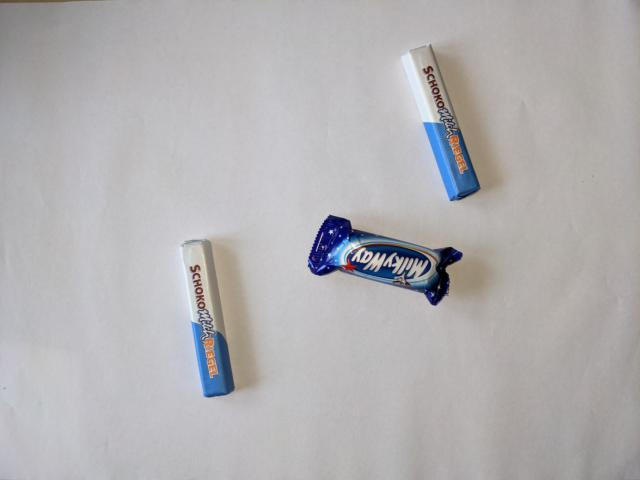MilkyWay: (303, 212, 466, 308)
Schokoriegel: (399, 41, 483, 204), (176, 236, 239, 400)
